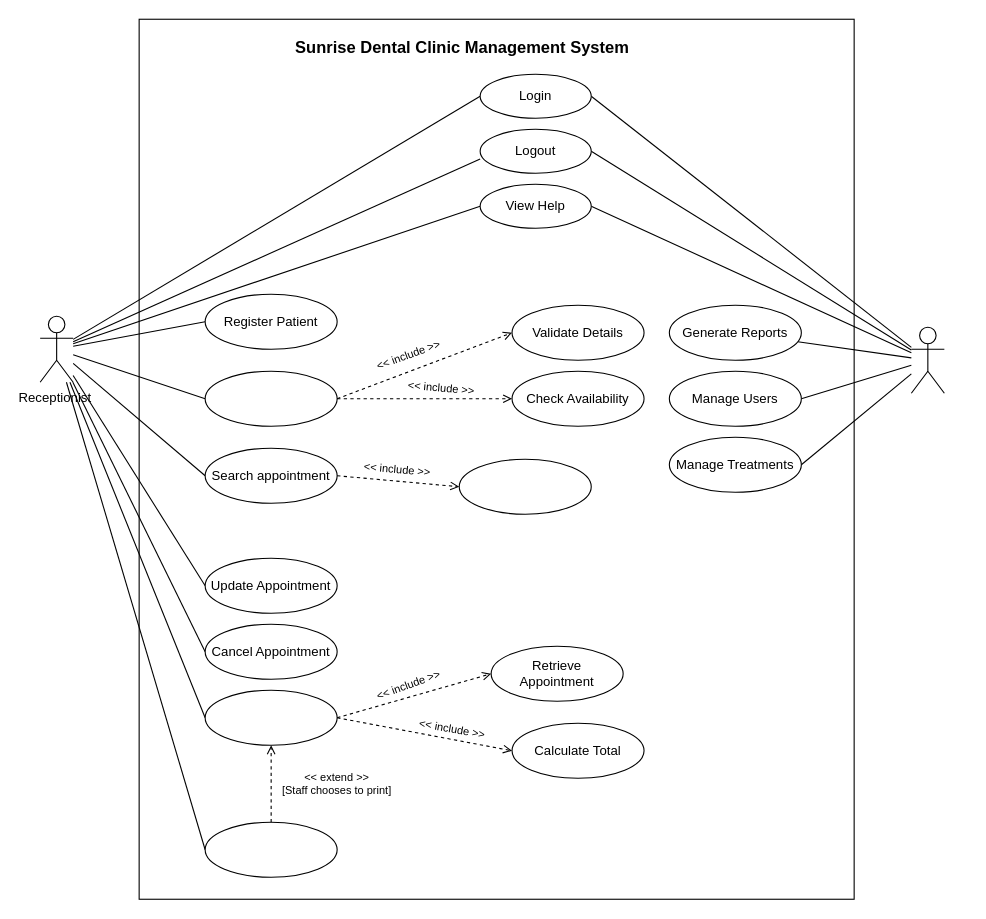
Image size: 986x919. Some labels were removed from this diagram. The centre of each missing label's shape, as x and y in pixels:
"Administrator" goes at (927,359).
"Calculate Bill" goes at (270,717).
"Display appointment deatils" goes at (524,486).
"Print Receipt" goes at (270,849).
"Register Appointment" goes at (270,398).
